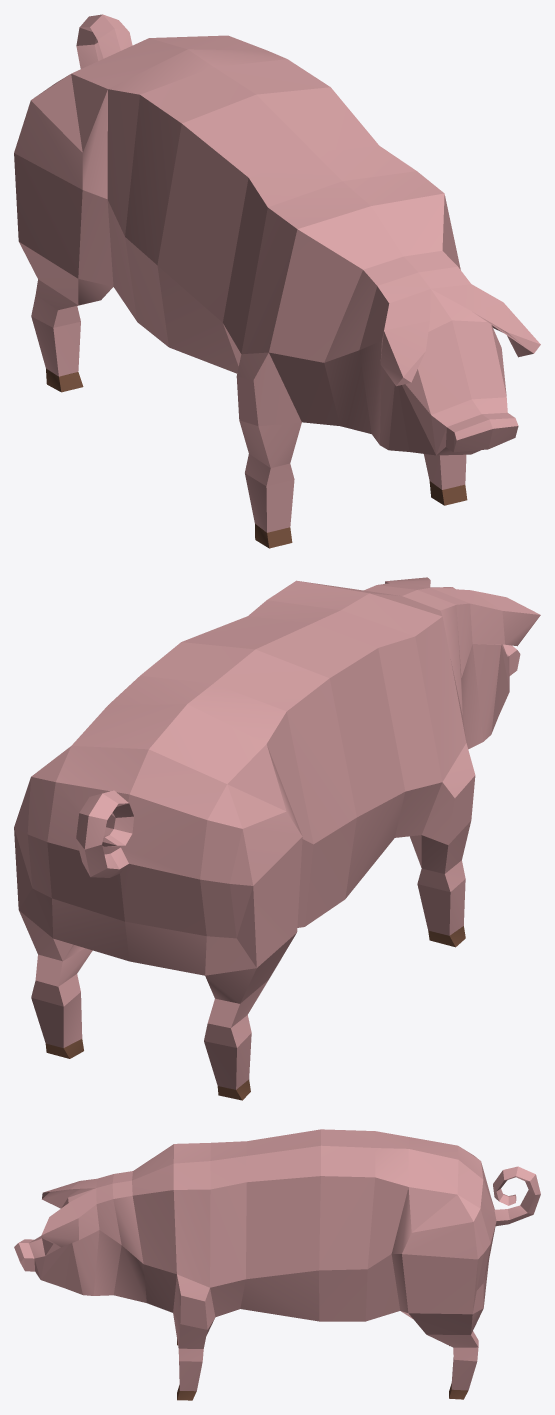
File: bete-pig.glb
3 views of the same model, one above another, from view 1: azimuth 30°, elevation 25°; view 2: azimuth 150°, elevation 25°; view 3: azimuth 270°, elevation 25° (orthographic). The views are drawn at different scales.
Parts seen in each view (by area): view 1: Cylinder, Cylinder_1; view 2: Cylinder, Cylinder_1; view 3: Cylinder, Cylinder_1.
Boxes of the visible parts, <box> form: Cylinder: <box>14,14,540,532</box>; Cylinder_1: <box>46,368,467,548</box>; Cylinder: <box>14,577,540,1089</box>; Cylinder_1: <box>45,926,465,1100</box>; Cylinder: <box>14,1129,540,1391</box>; Cylinder_1: <box>177,1339,467,1400</box>.
Size of the model in its own units: 0.6478 by 0.8969 by 1.92.
